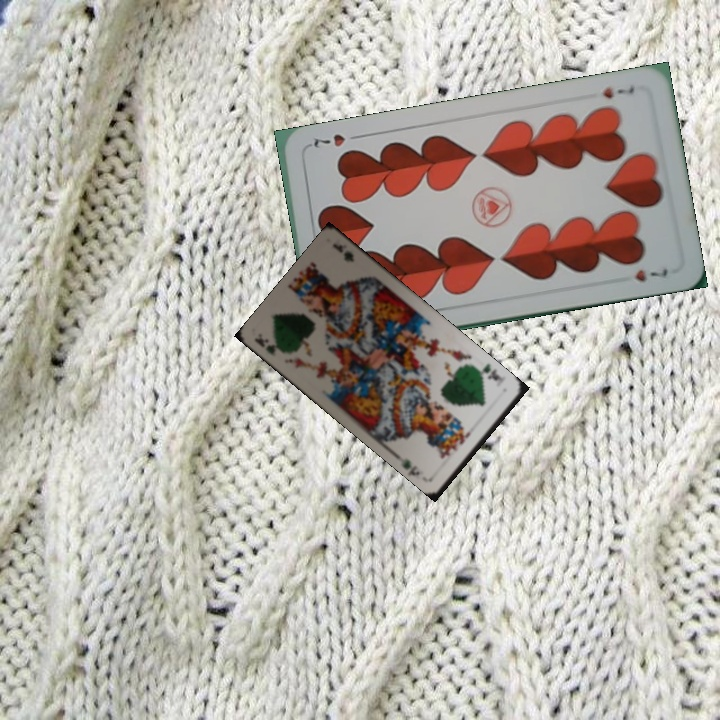GK: (251, 330, 280, 357), (472, 360, 504, 383)
H7: (599, 81, 637, 101)
